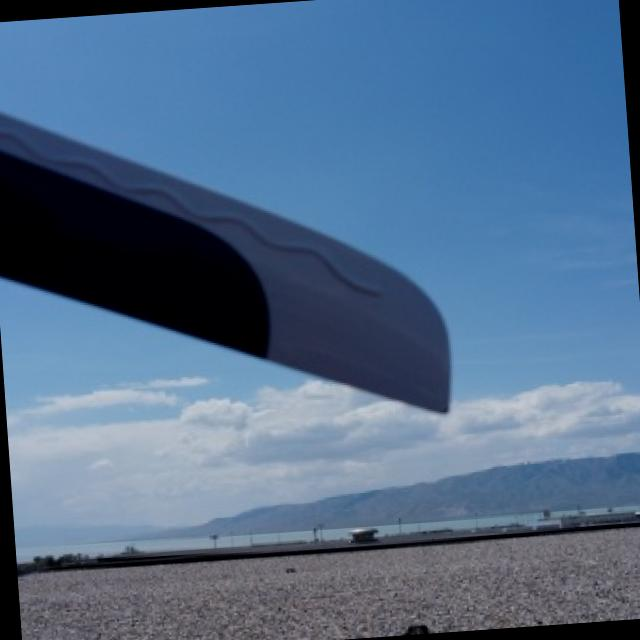healthy: (0, 110, 446, 407)
